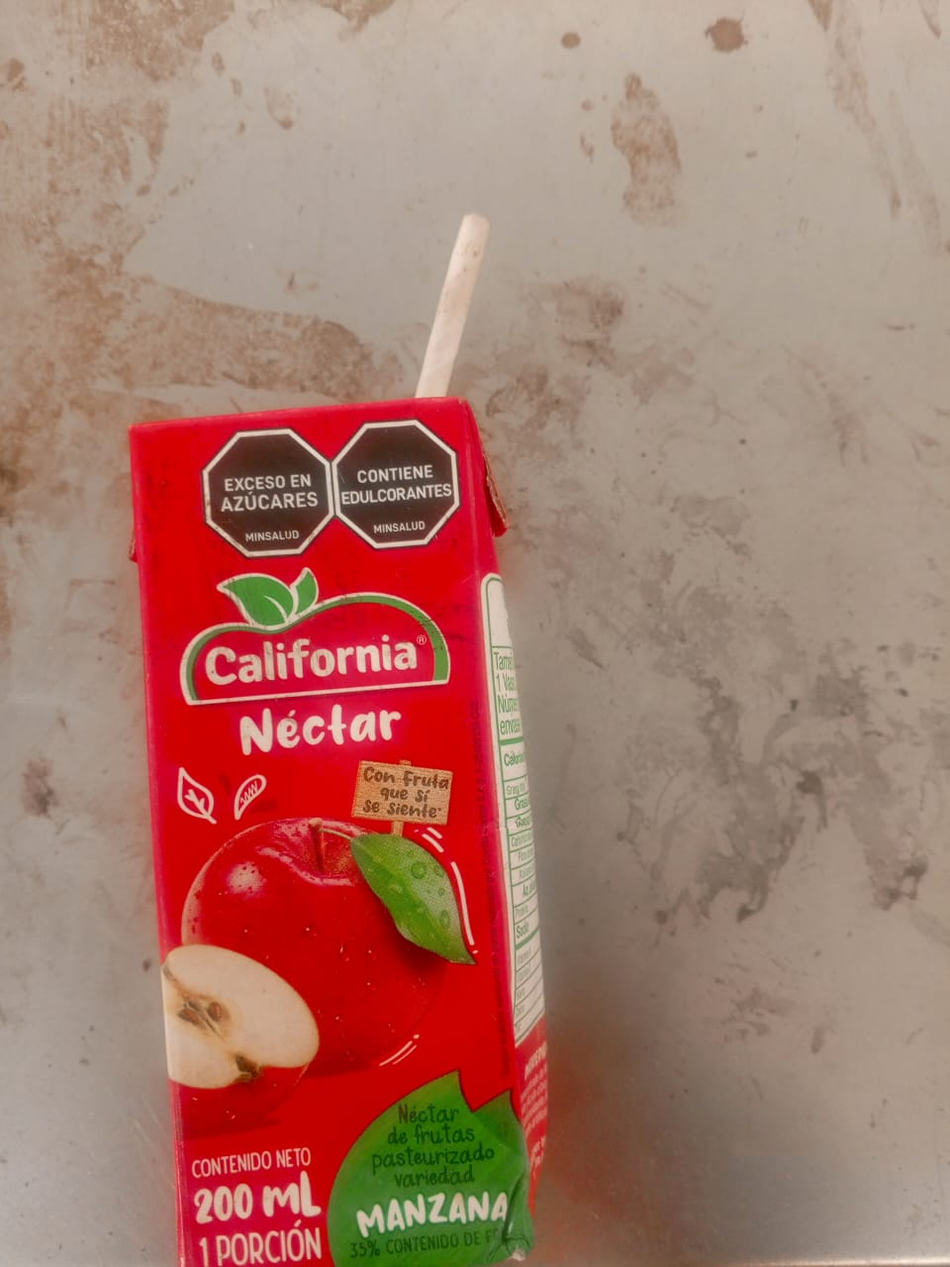Carton: (129, 399, 548, 1265)
